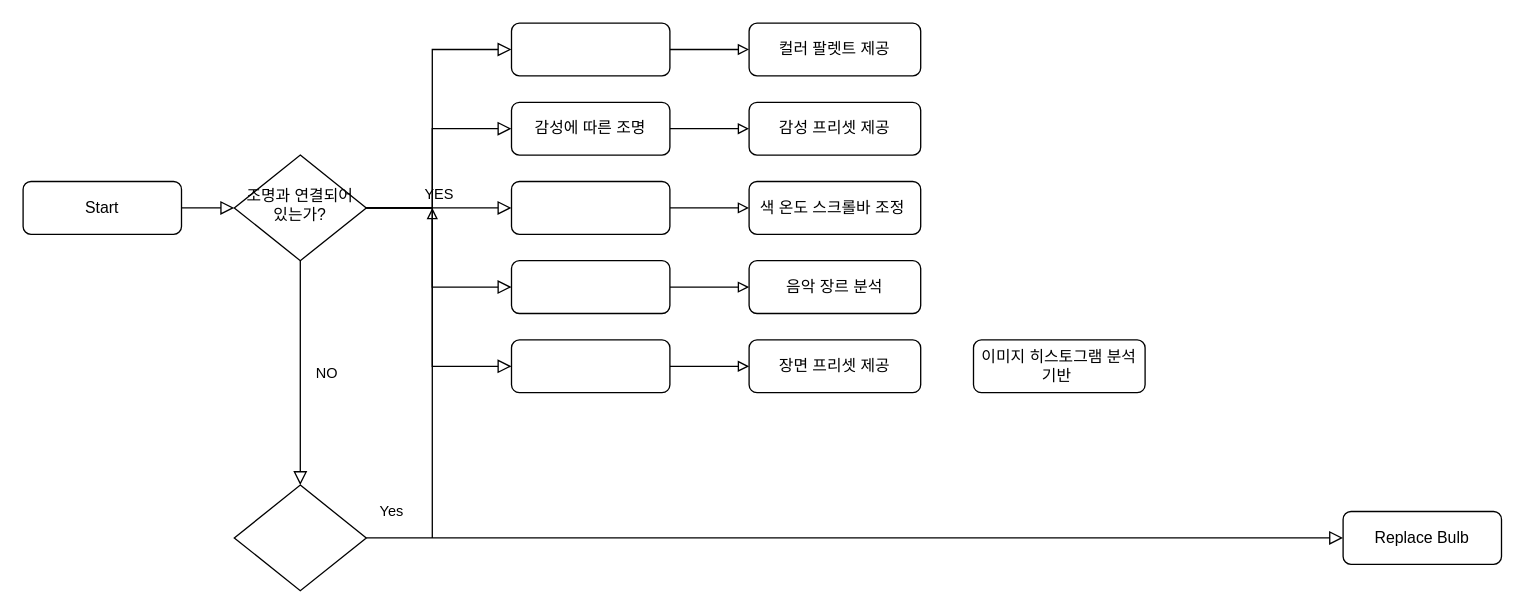
This 1525x614 diagram has some shape labels left out. Each missing label, with the centre of its shape:
사용자 색 선택: (590,49)
색 온도 조절 기능: (590,207)
음악에 어울리는 조명: (590,286)
장면 표현 조명: (590,366)
조명과 연결하겠습니까?: (299,537)
